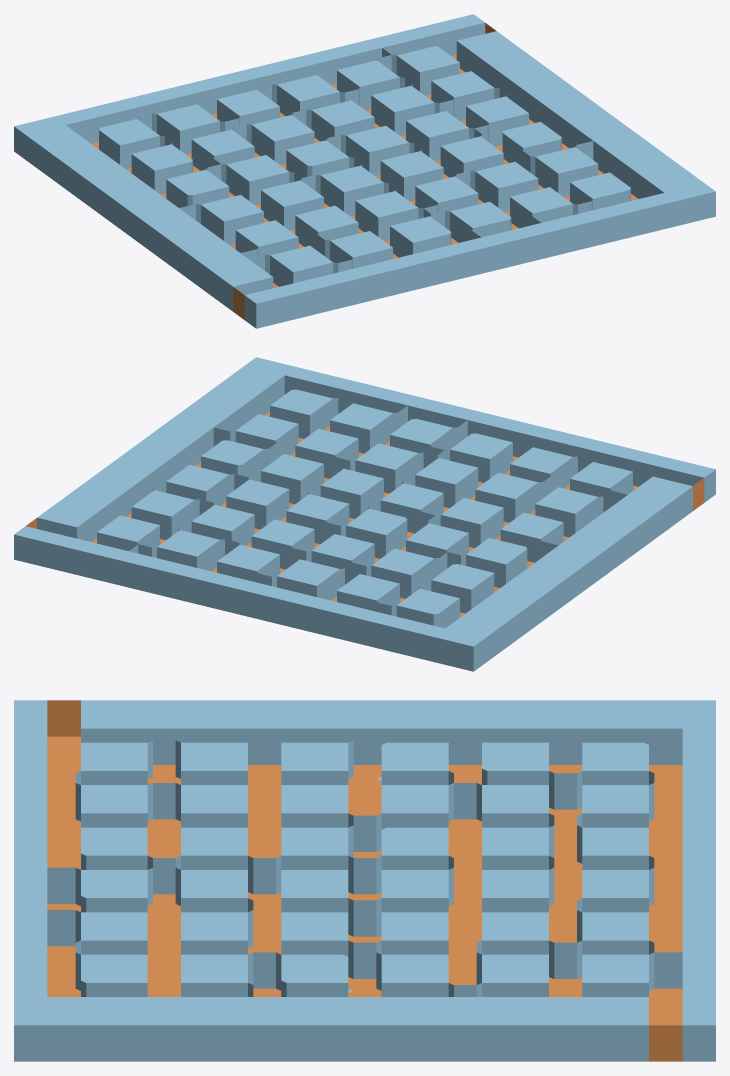
The model's file is mazev10.dae.
3 renders of one model, top to bottom at view 1: azimuth 30°, elevation 25°; view 2: azimuth 150°, elevation 25°; view 3: azimuth 270°, elevation 25°, orthographic. The views are drawn at different scales.
Parts seen in each view (by area): view 1: 平面; view 2: 平面; view 3: 平面.
Boxes of the visible parts, x1,y1,x2,y2 form: 平面: [14, 14, 715, 328]; 平面: [14, 357, 715, 671]; 平面: [14, 700, 715, 1061].
Bounding box in the file's own units: 28.75 × 26.25 × 1.5.
